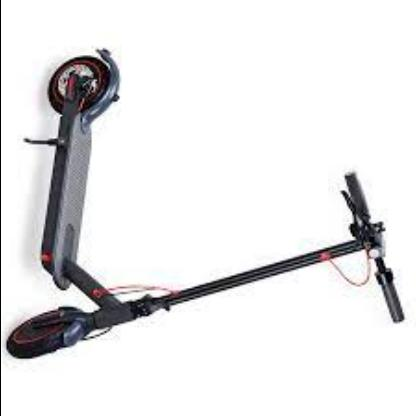bike: (7, 46, 408, 360)
